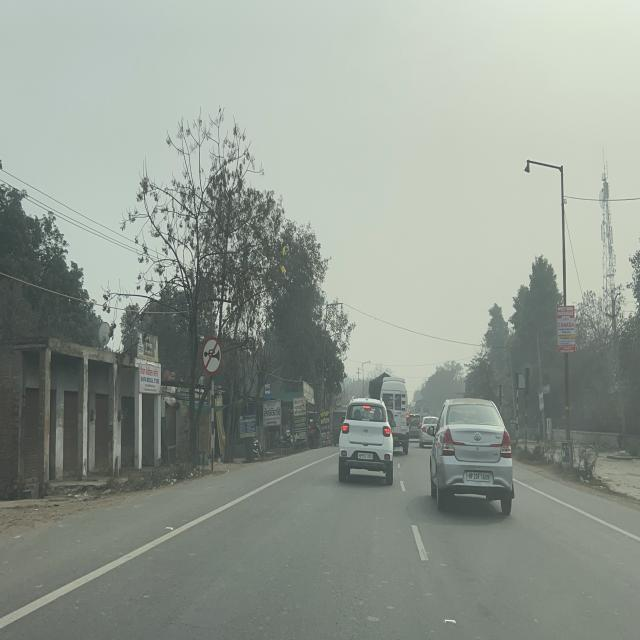HORN_PROHIBITED: (201, 337, 222, 374)
INFORMATION: (264, 380, 271, 399)
